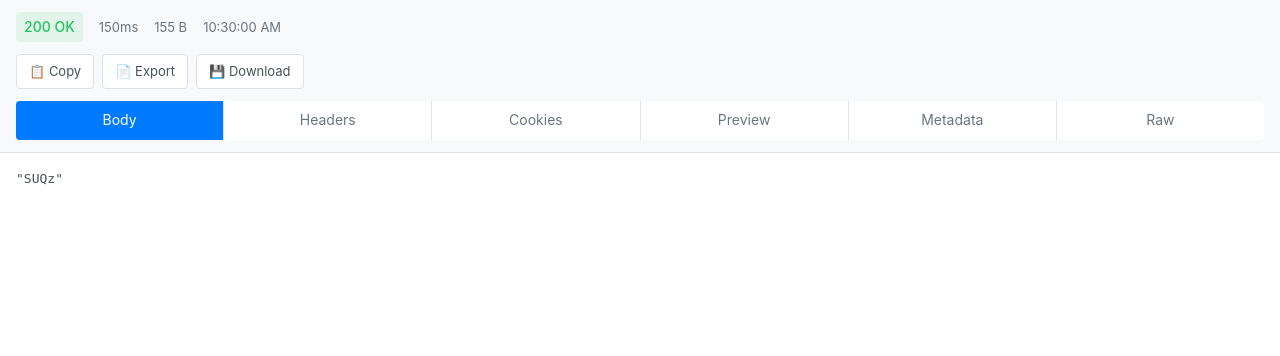
Scenario: ResponseView › should show preview tab for binary audio response
This screenshot has width=1280, height=356.
Click the button "Preview" at [744, 120], box left=640, top=101, right=848, bottom=140
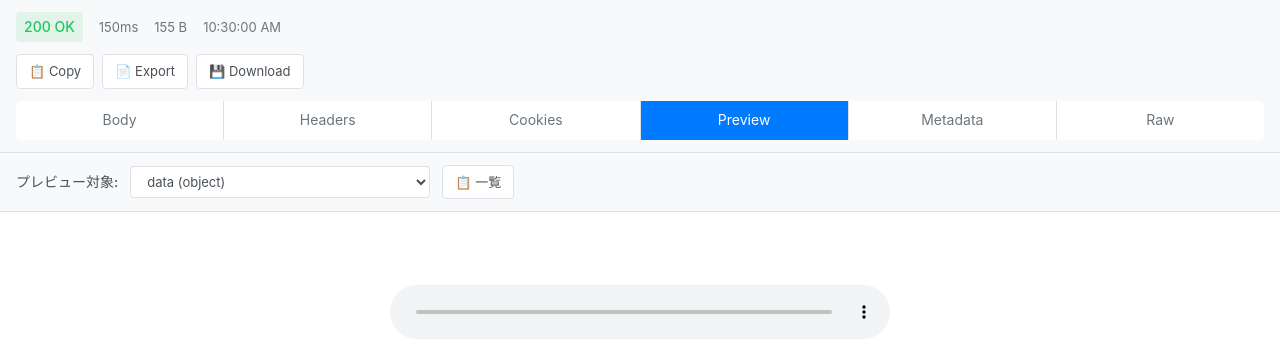
Expected: the text "お使いのブラウザは音声の再生をサポートしていません。" is shown, left=390, top=285, right=890, bottom=339
